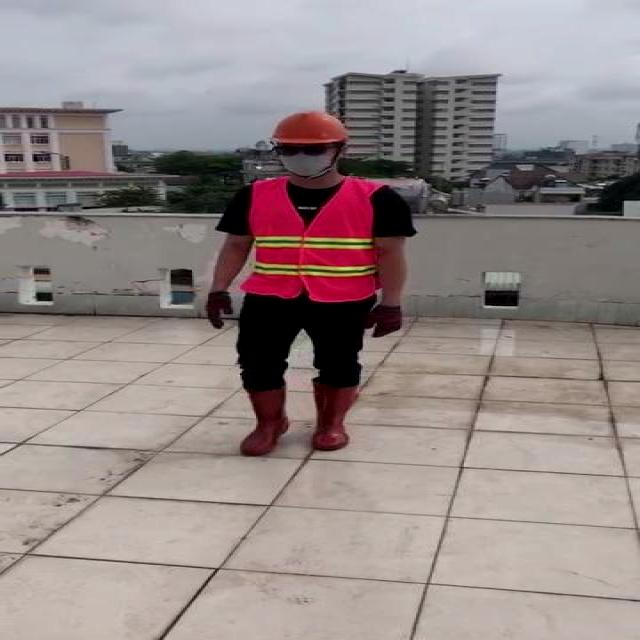boots: (233, 385, 295, 454), (309, 382, 361, 451)
face_mask: (273, 141, 335, 176)
glasses: (276, 140, 334, 158)
hand_glove: (362, 303, 403, 339), (206, 290, 233, 331)
head_helmet: (268, 109, 352, 147)
person: (197, 108, 411, 462)
vest: (246, 177, 380, 298)
